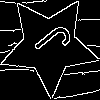J: (24, 20, 75, 68)
